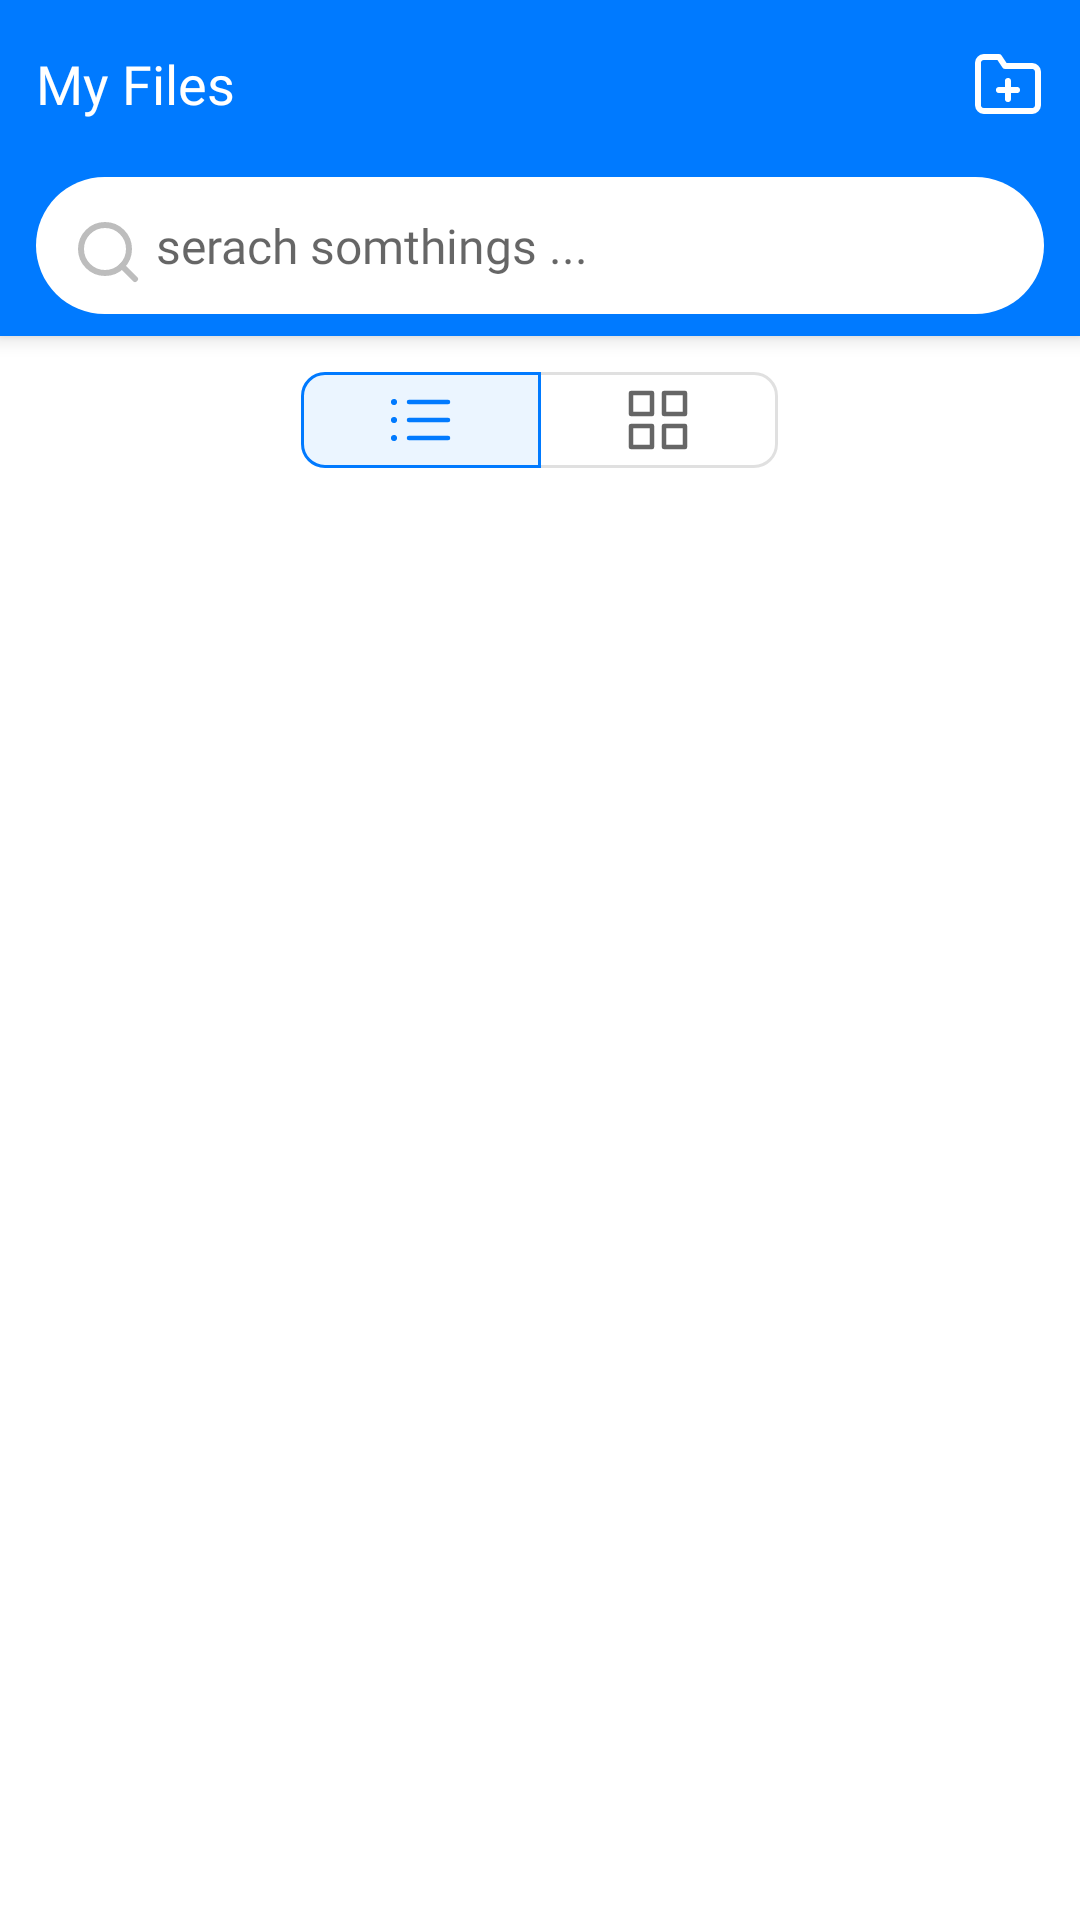

Where icons sit on this 1080 × 1920 app screen, as (x1, y1, x2, y2):
add folder: (975, 54, 1041, 114)
grid: (628, 390, 688, 450)
list: (301, 372, 541, 468)
search: (78, 222, 138, 282)
